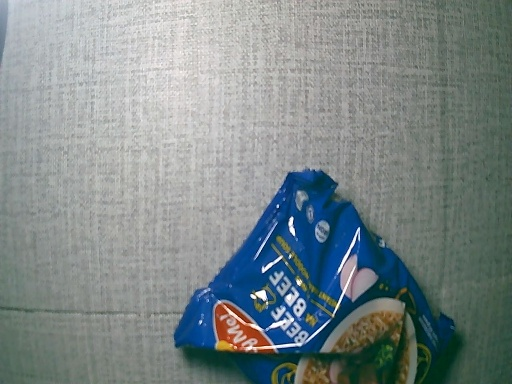plastic: (174, 169, 453, 384)
